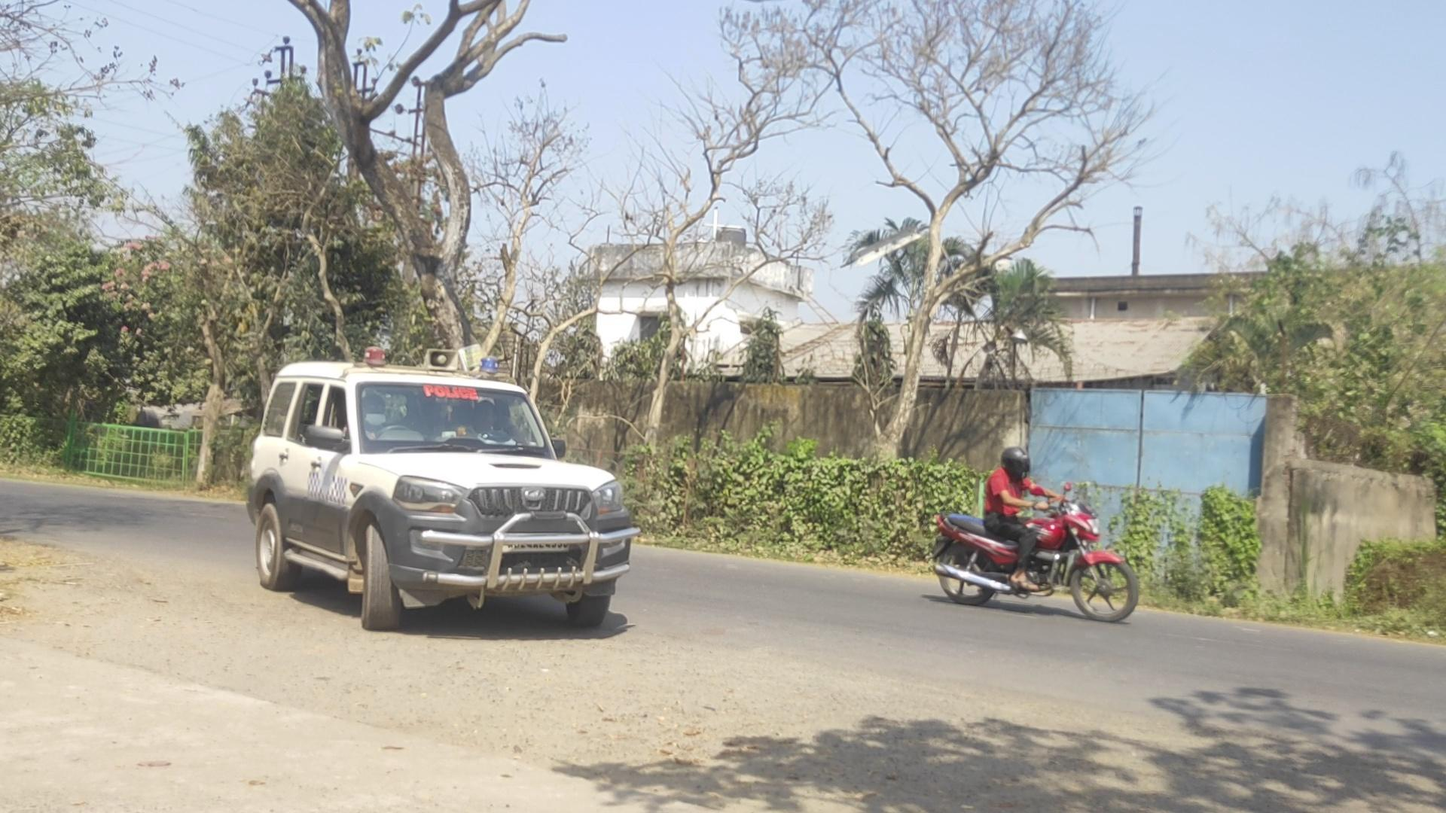bike: (930, 447, 1140, 623)
car: (247, 346, 639, 632)
